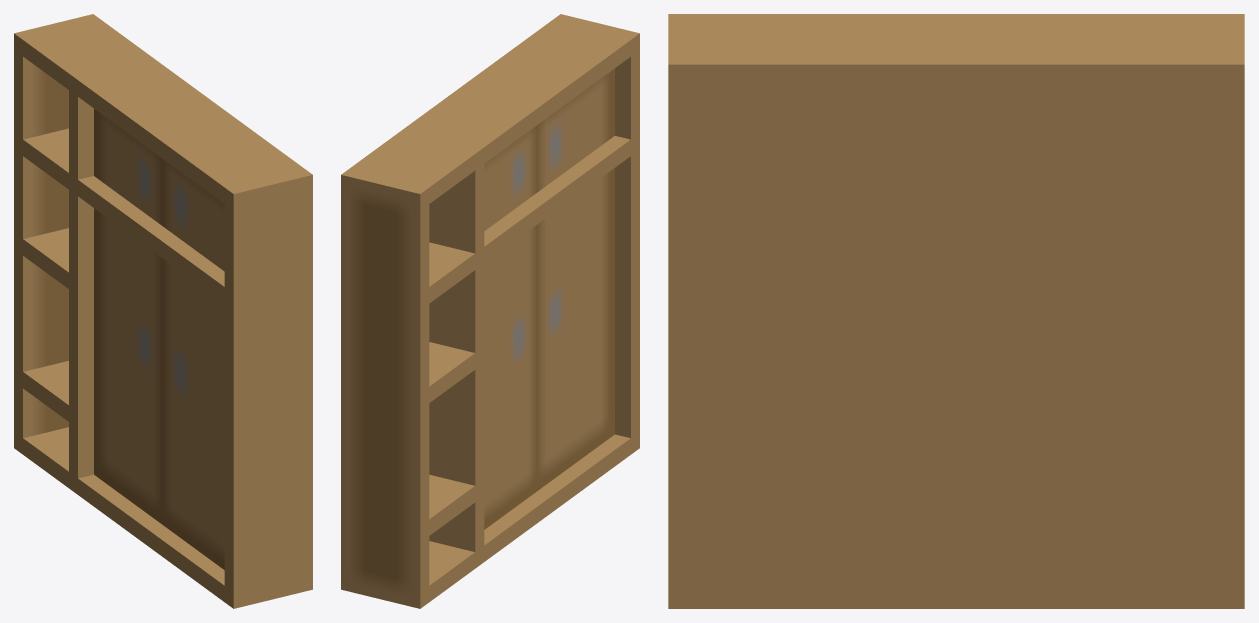
Rendered from Closet.fbx.
3 renders of one model, left to right at view 1: azimuth 30°, elevation 25°; view 2: azimuth 150°, elevation 25°; view 3: azimuth 270°, elevation 25°, orthographic. The views are drawn at different scales.
Parts seen in each view (by area): view 1: Closet; view 2: Closet; view 3: Closet.
Boxes of the visible parts, x1,y1,x2,y2 form: Closet: (14,14,312,608); Closet: (341,14,639,608); Closet: (668,14,1244,608).
Bounding box in the file's own units: 5 × 25 × 24.
1 material, 1 textured.
